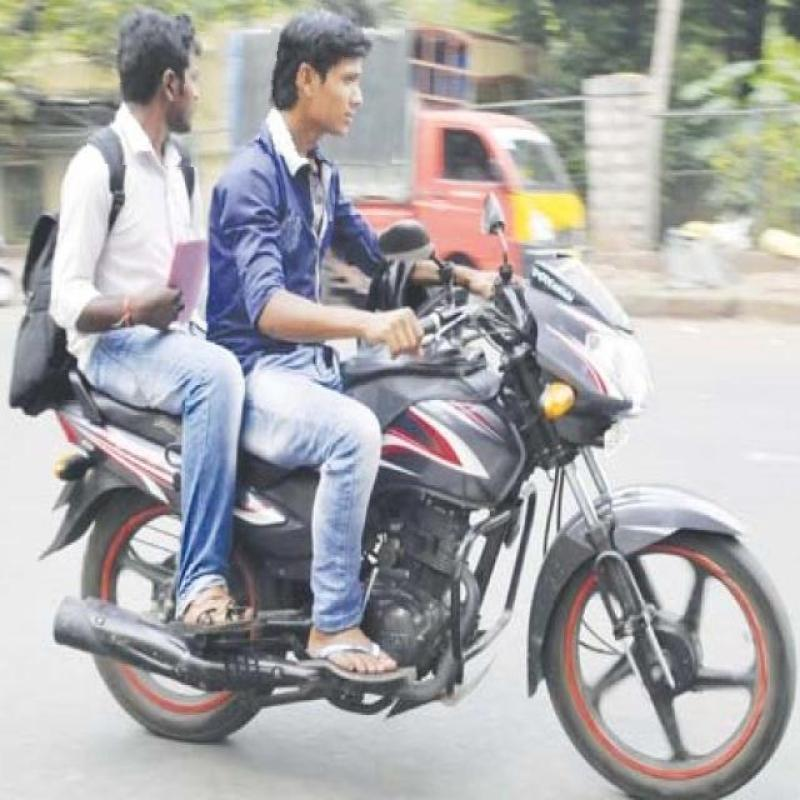nohelmet: (262, 1, 404, 164), (88, 0, 223, 167)
